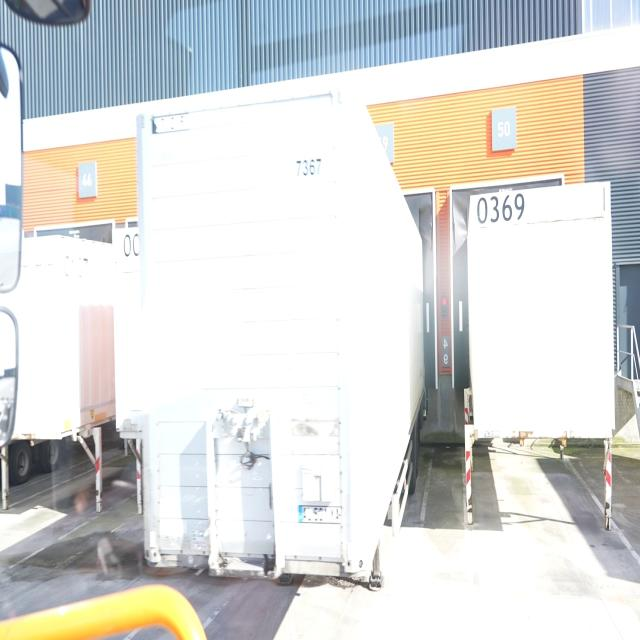Code: (473, 188, 530, 226), (291, 150, 327, 183)
